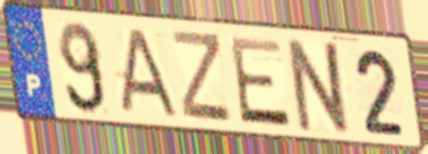2: (349, 42, 411, 140)
9: (57, 18, 111, 118)
A: (115, 27, 183, 121)
E: (226, 34, 294, 130)
N: (285, 36, 354, 137)
Z: (170, 28, 235, 127)
